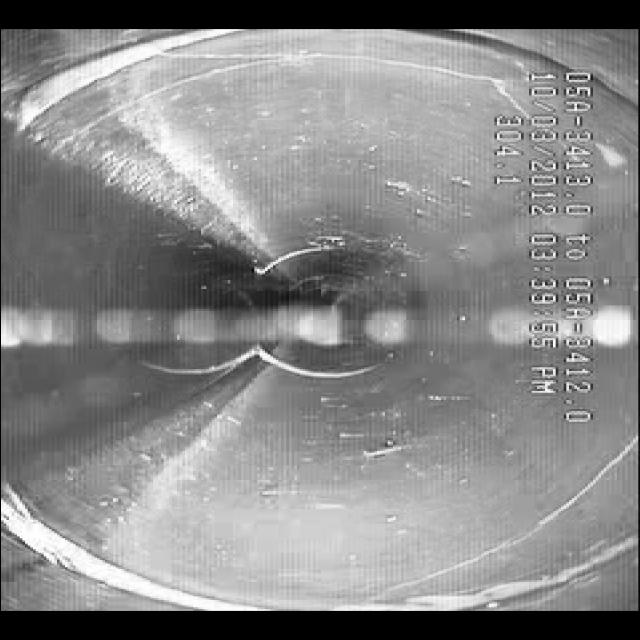Crack: (165, 30, 502, 126)
